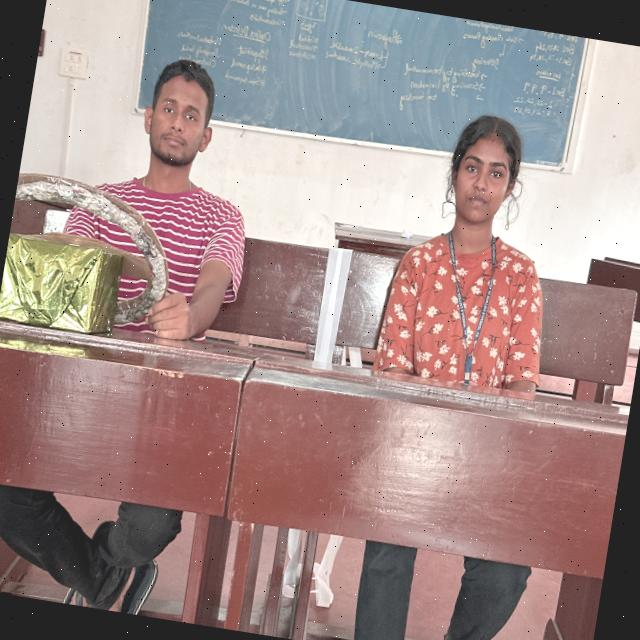no-seatbelt: (50, 154, 252, 334), (370, 220, 552, 389)
